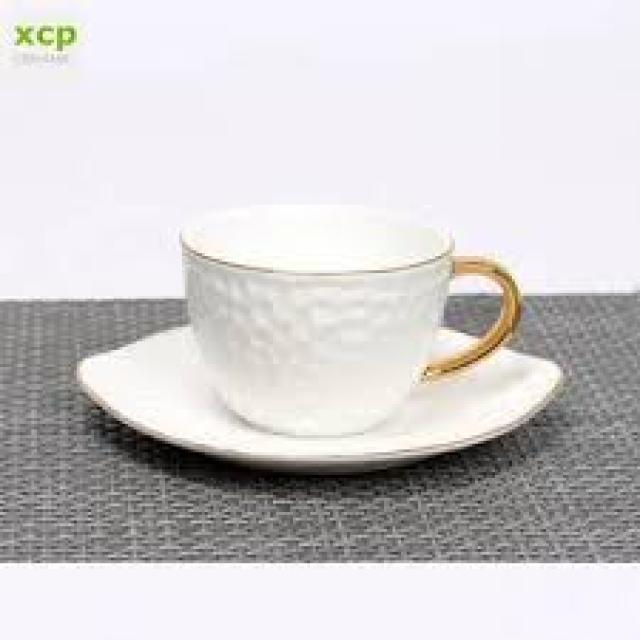taza: (168, 192, 526, 442)
